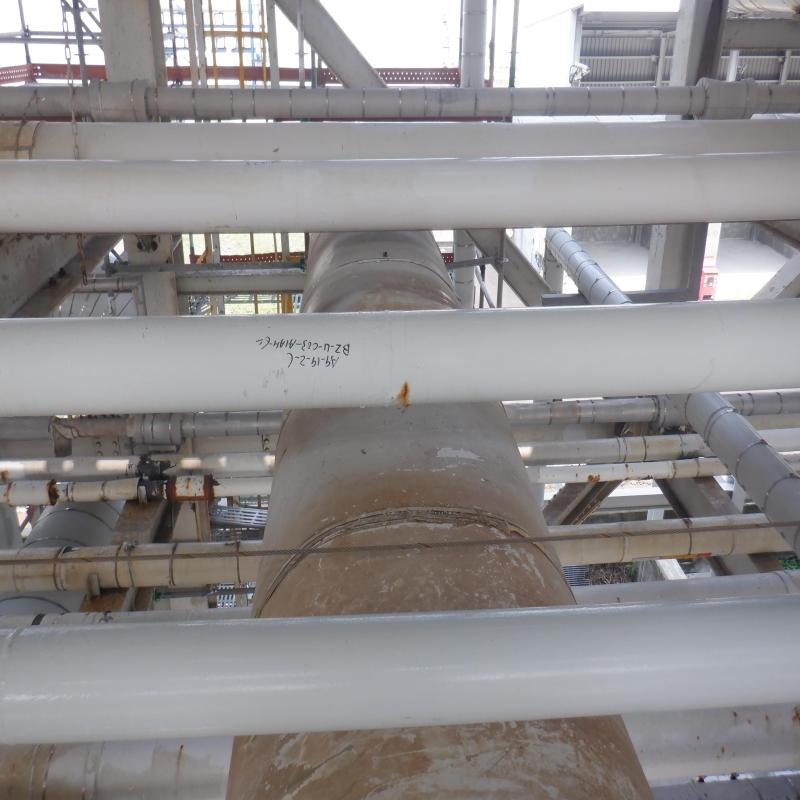corrosion: (397, 381, 414, 413)
